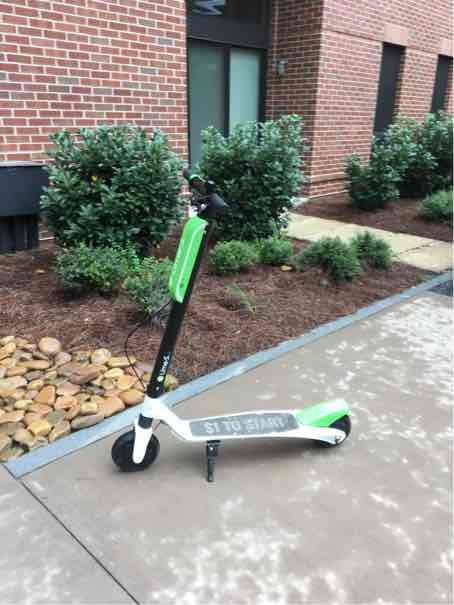scooter: (112, 142, 361, 486)
